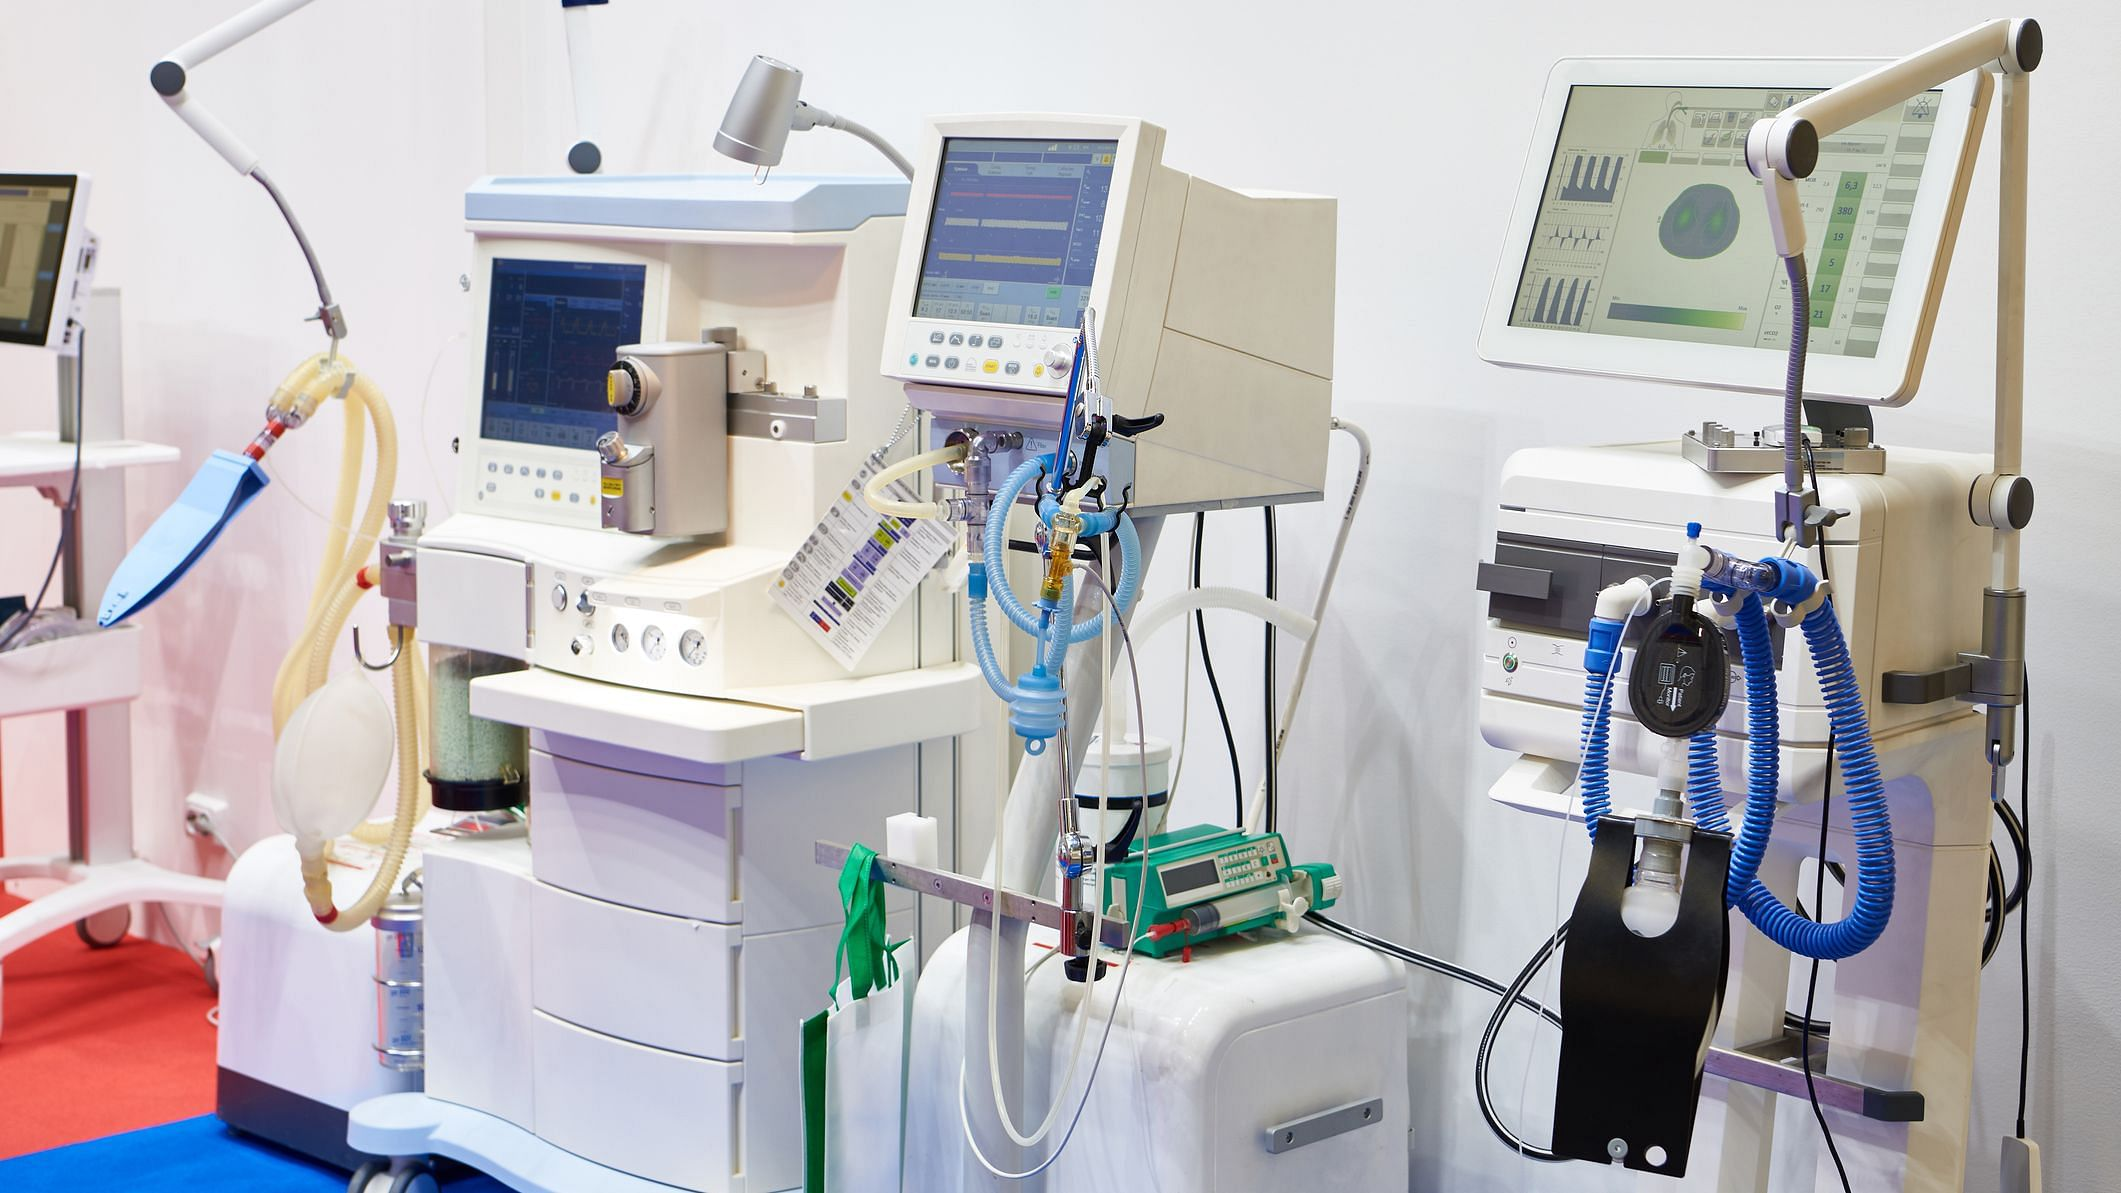bedside_monitor: (454, 251, 674, 507)
breathing_tube: (1575, 607, 1935, 957), (253, 341, 433, 926), (909, 524, 1117, 763)
drawer: (481, 790, 756, 1193)
syringe_pump: (1026, 840, 1308, 948)
ventilator: (1444, 61, 2121, 1193), (792, 108, 1442, 1193), (275, 202, 827, 1167)
